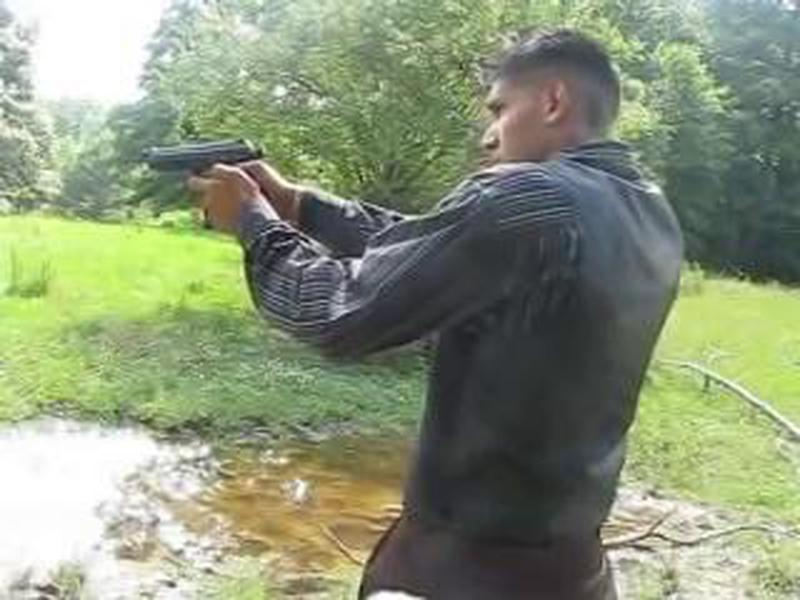Pistola: (126, 119, 274, 177)
